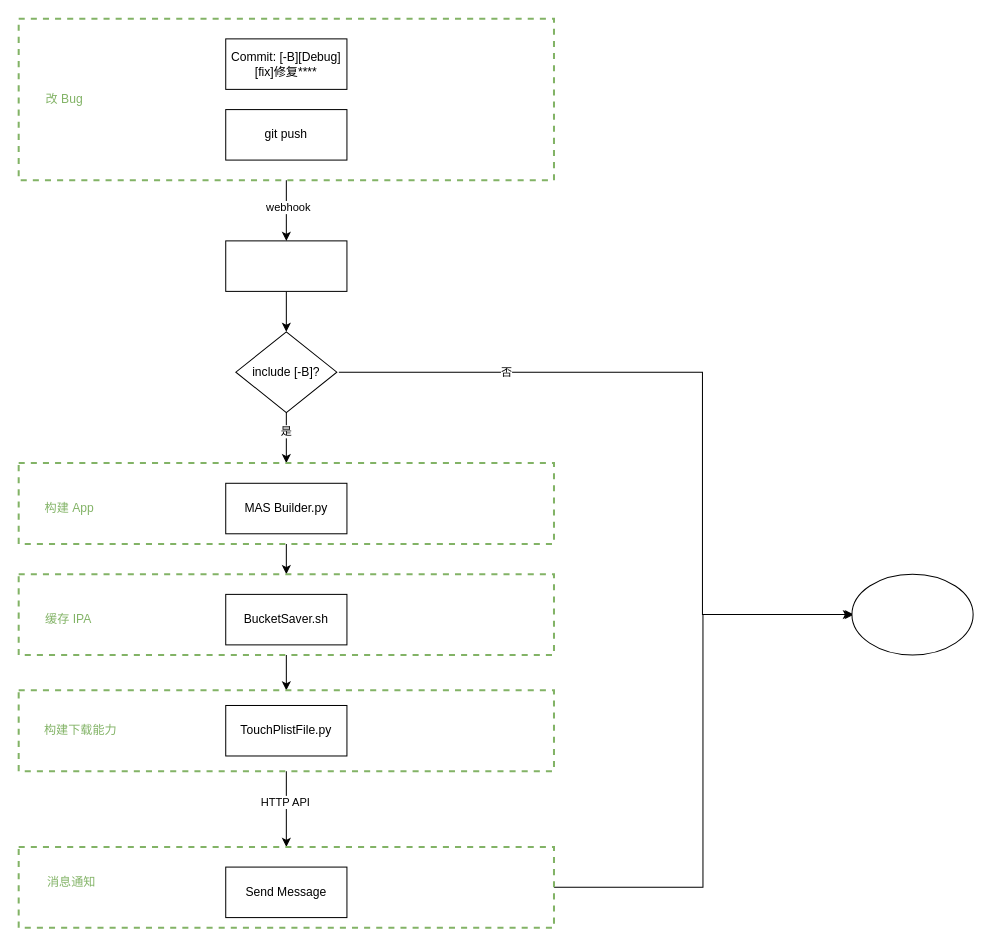
The diagram is 991 pixels wide and 945 high, and some of its shapes have lost their labels. The centre of each missing label's shape, as x and y in pixels:
Custom Server: pixel 286 265
End: pixel 912 614
